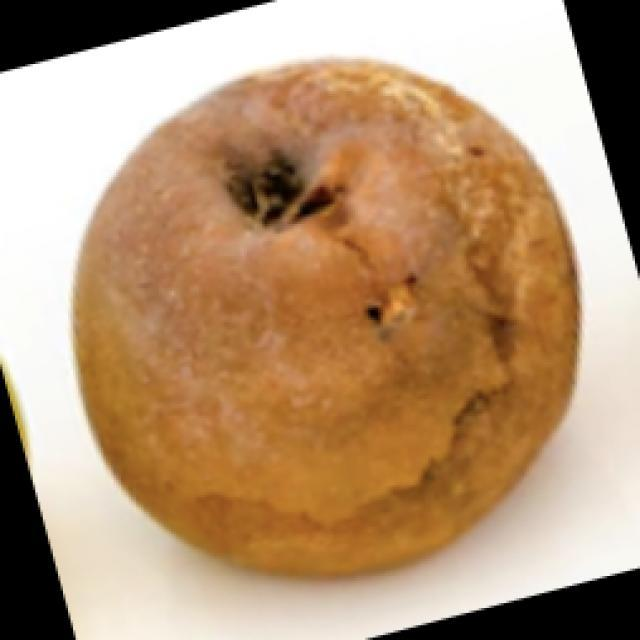Rotten: (60, 51, 577, 582)
